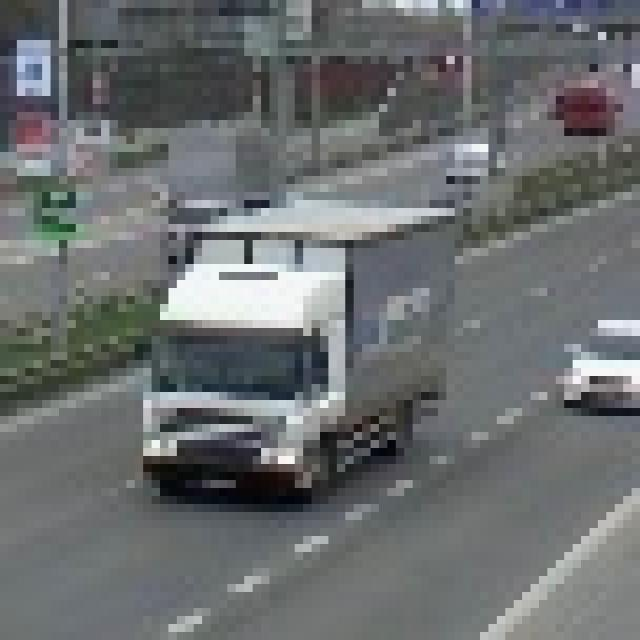truck: (127, 193, 464, 497)
